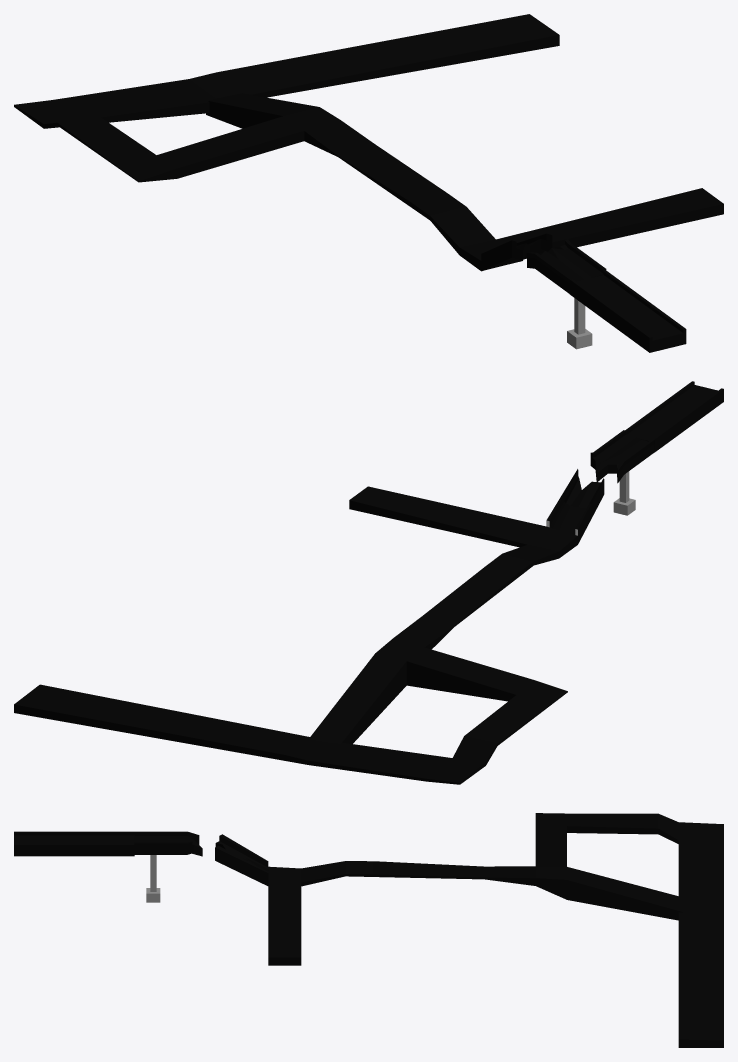
Rendered from RuaEsquerda.fbx.
The picture shows the model from 3 angles, top to bottom: view 1: azimuth 30°, elevation 25°; view 2: azimuth 150°, elevation 25°; view 3: azimuth 270°, elevation 25°; orthographic projection. The views are drawn at different scales.
Visible parts, largest first — view 1: Cube.006; view 2: Cube.006; view 3: Cube.006.
Part boxes in pixels (x1,y1,x2,y2): Cube.006: (14, 14, 723, 352); Cube.006: (14, 381, 723, 784); Cube.006: (14, 813, 723, 1047).
Bounding box in the file's own units: 9416 × 2082 × 14879.
